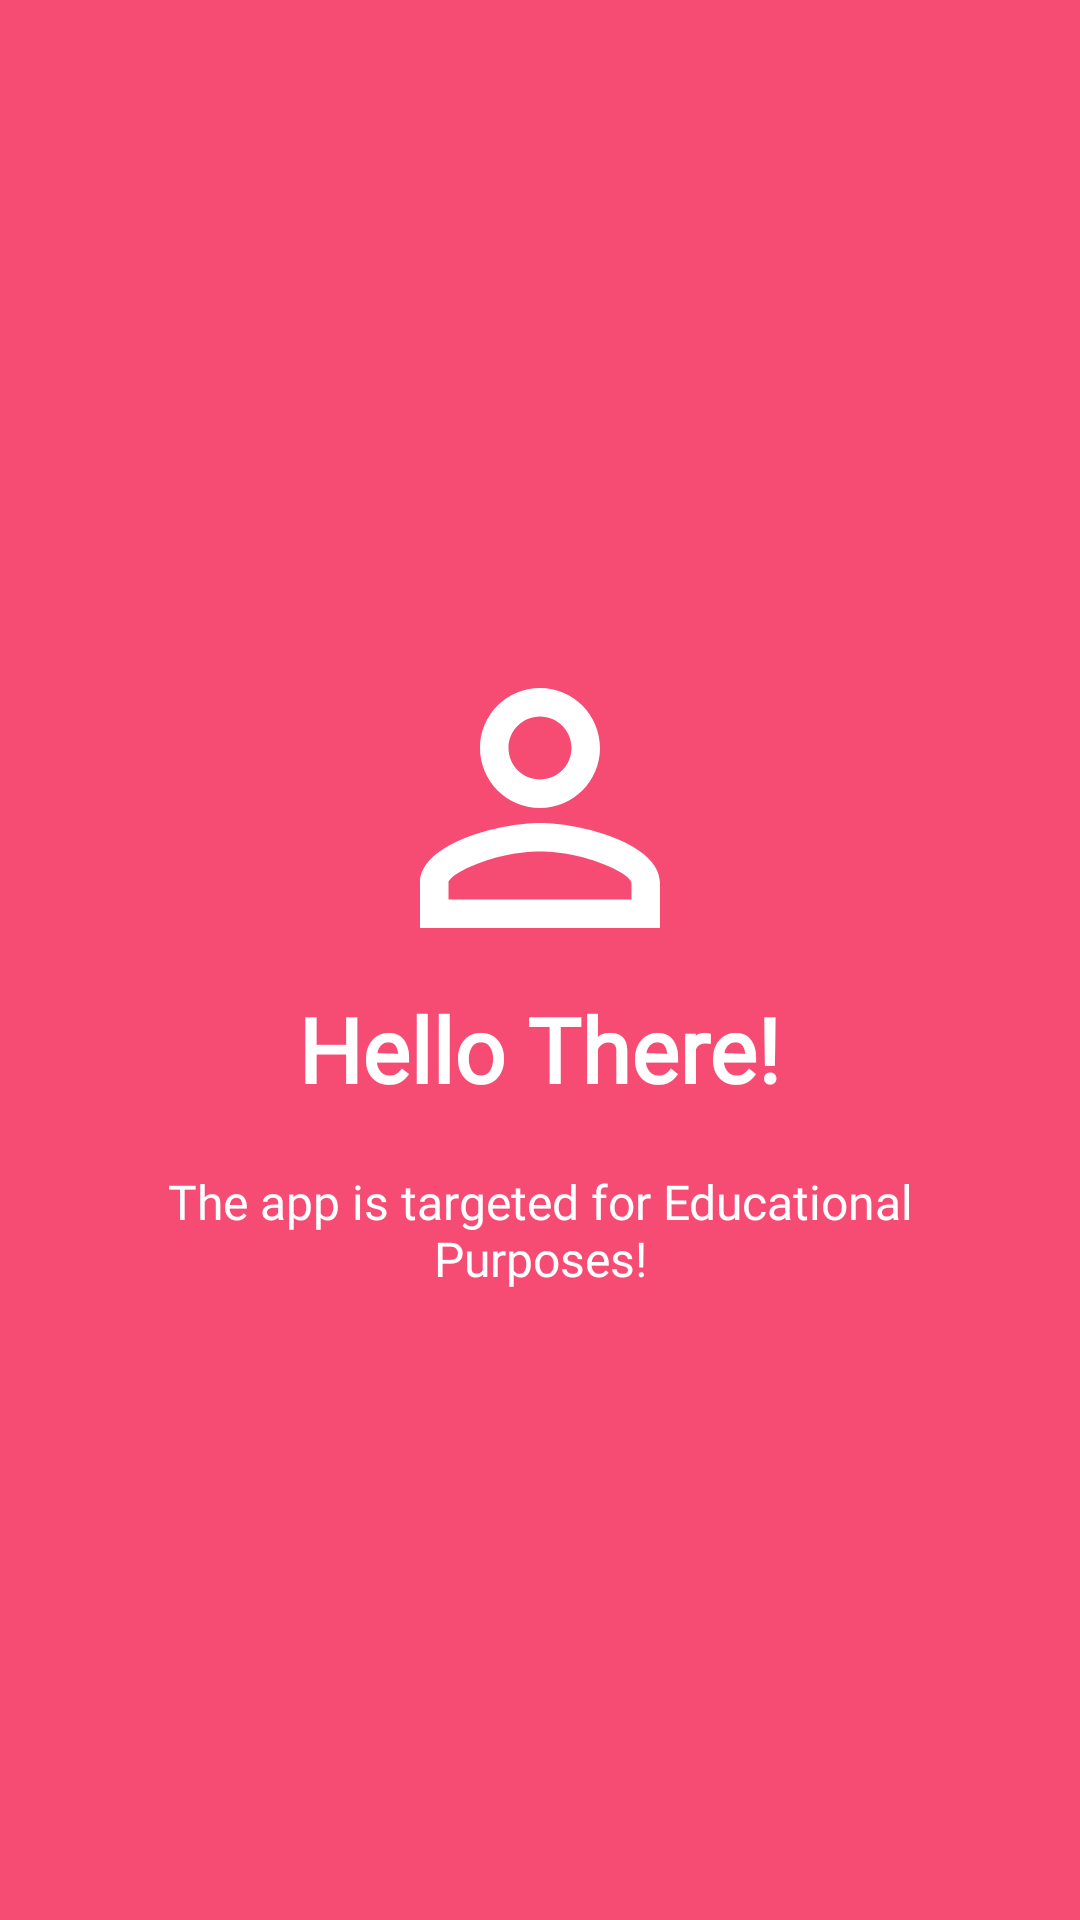

Icons on this 1080px x 1920px Android screen, each with the point to tap as (x,y):
person: (540,808)
